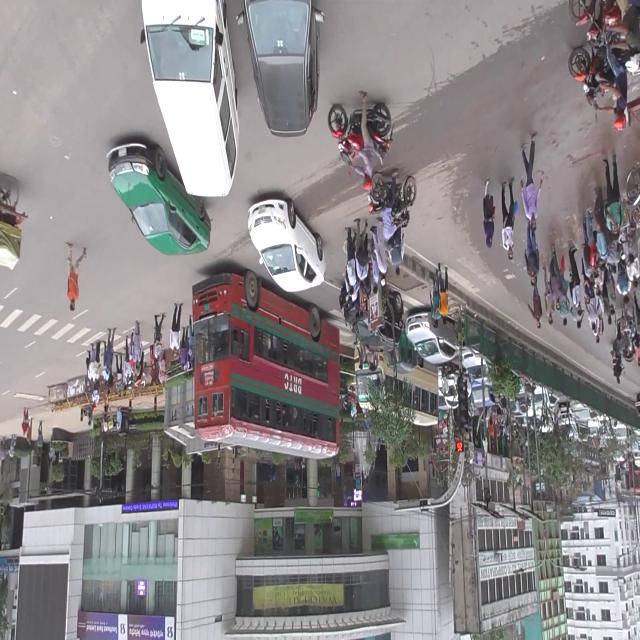black: (247, 0, 321, 135)
green: (104, 141, 211, 260)
silver: (407, 309, 459, 363), (460, 344, 494, 384)
white: (142, 0, 245, 196), (248, 185, 327, 292)
